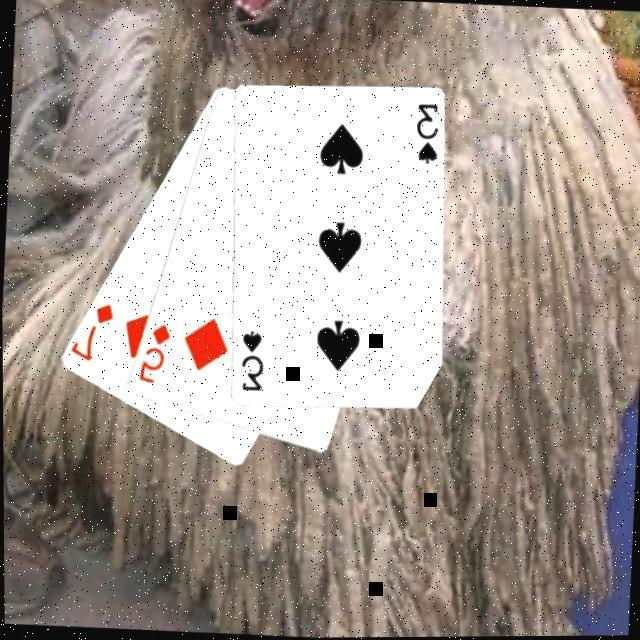3S: (413, 100, 444, 168), (237, 327, 268, 394)
5D: (136, 318, 175, 387)
7D: (69, 298, 118, 365)
